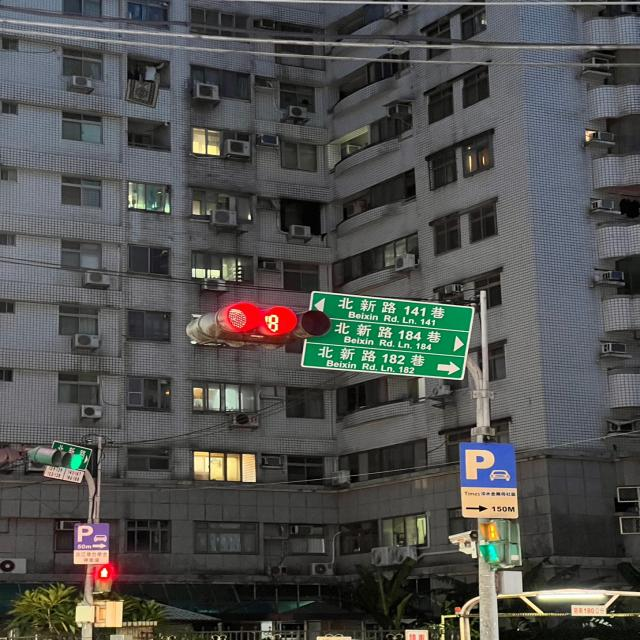red light: (216, 303, 336, 339)
